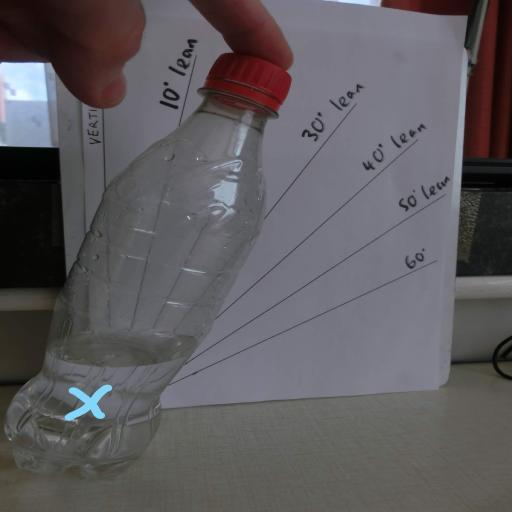bottle: (7, 46, 300, 488)
